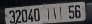0: (22, 8, 28, 22), (34, 7, 40, 21)
2: (16, 9, 21, 23)
3: (8, 9, 15, 24)
4: (28, 8, 34, 22)
5: (68, 5, 74, 19)
6: (75, 4, 81, 18)
a: (52, 6, 57, 20)
